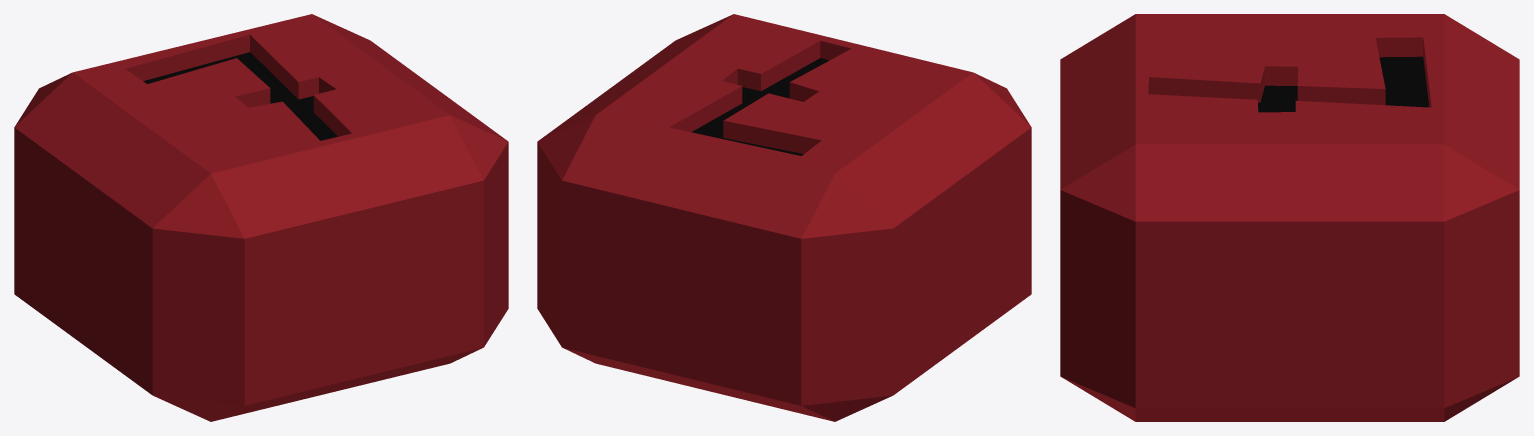
Rendered from Numero7.fbx.
The picture shows the model from 3 angles, left to right: view 1: azimuth 30°, elevation 25°; view 2: azimuth 150°, elevation 25°; view 3: azimuth 270°, elevation 25°; orthographic projection. The views are drawn at different scales.
Parts seen in each view (by area): view 1: Cubo7; view 2: Cubo7; view 3: Cubo7.
Boxes of the visible parts, bbox=[...] form: Cubo7: bbox=[14, 14, 508, 421]; Cubo7: bbox=[537, 14, 1031, 421]; Cubo7: bbox=[1060, 14, 1519, 421].
Size of the model in its own units: 15 by 10 by 15.
